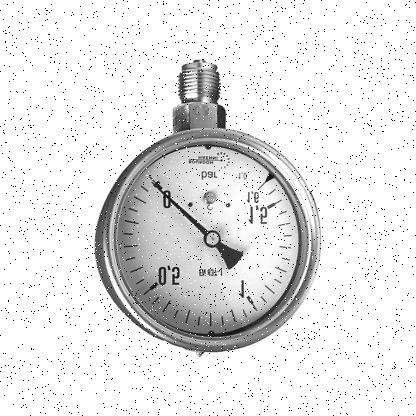needle: (150, 181, 208, 235)
